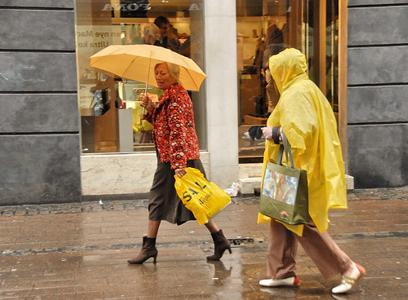person: (126, 60, 234, 264)
